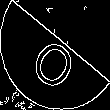O_NE: (26, 21, 84, 89)
